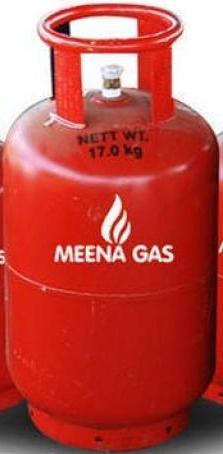cylinder: (1, 1, 223, 454)
